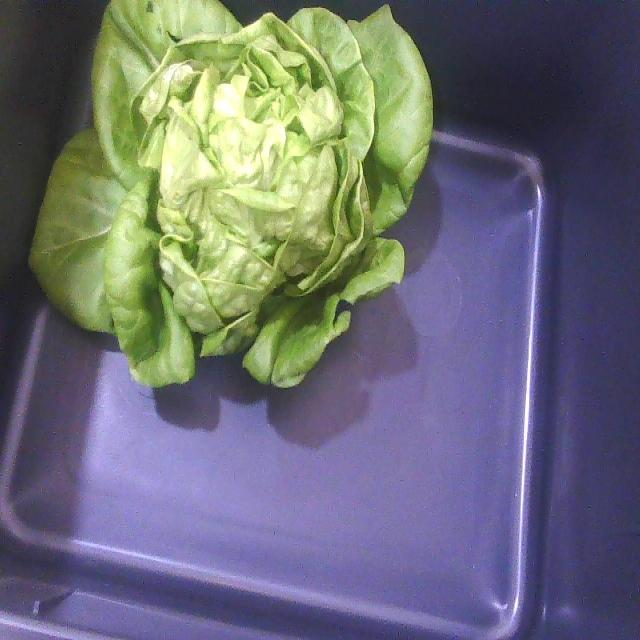Lettuce-plant: (31, 0, 432, 387)
